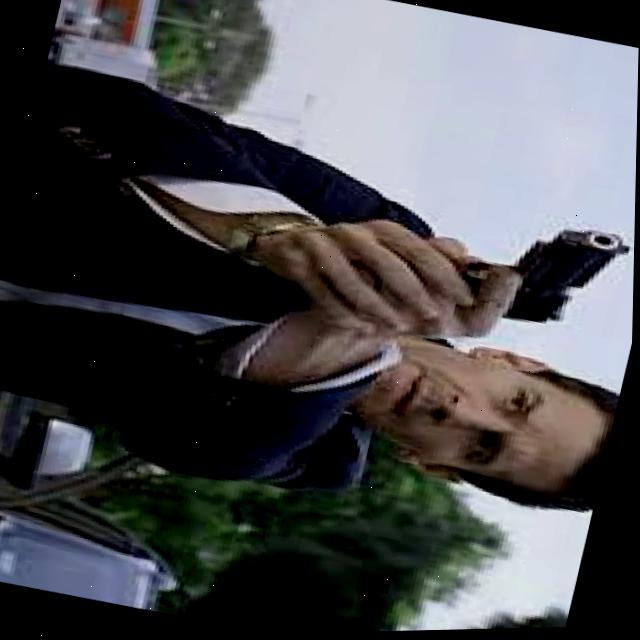pistol: (450, 203, 636, 343)
